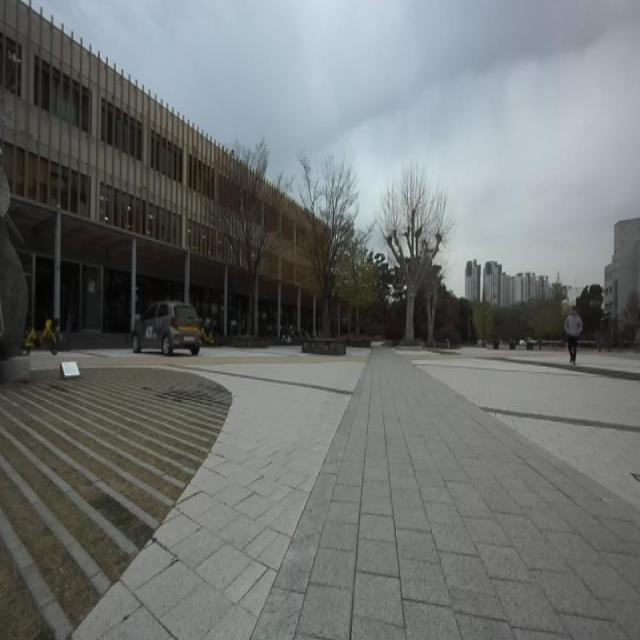sidewalk: (253, 348, 640, 639)
